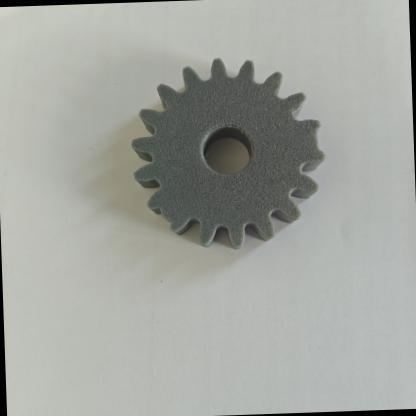defect: (269, 93, 358, 184), (136, 176, 210, 242)
gear: (102, 46, 365, 266)
